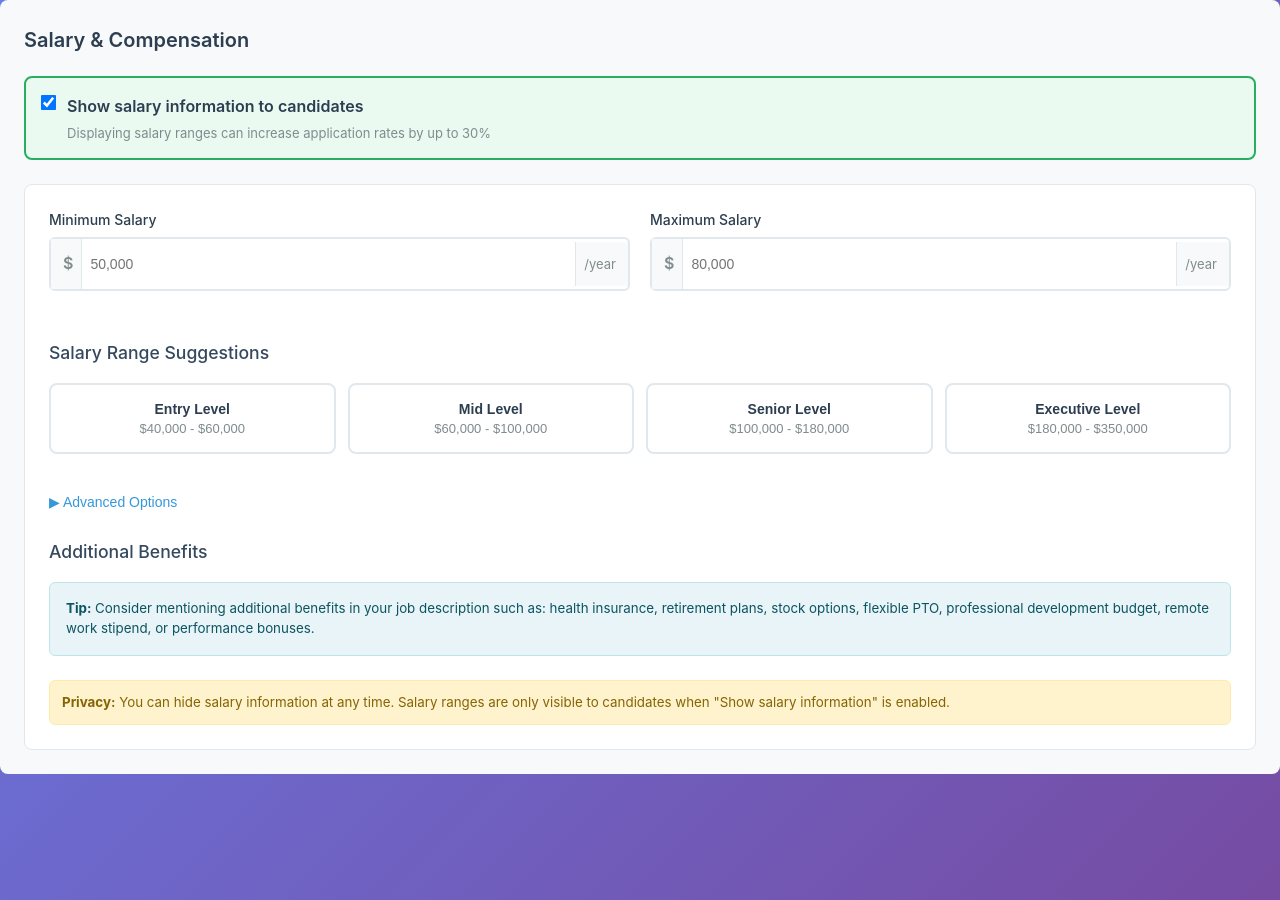
SalaryRangeComponent › shows advanced options when toggled
The width and height of the screenshot is (1280, 900).
Click the button "▶ Advanced Options" at (113, 502), box [49,486,177,518]
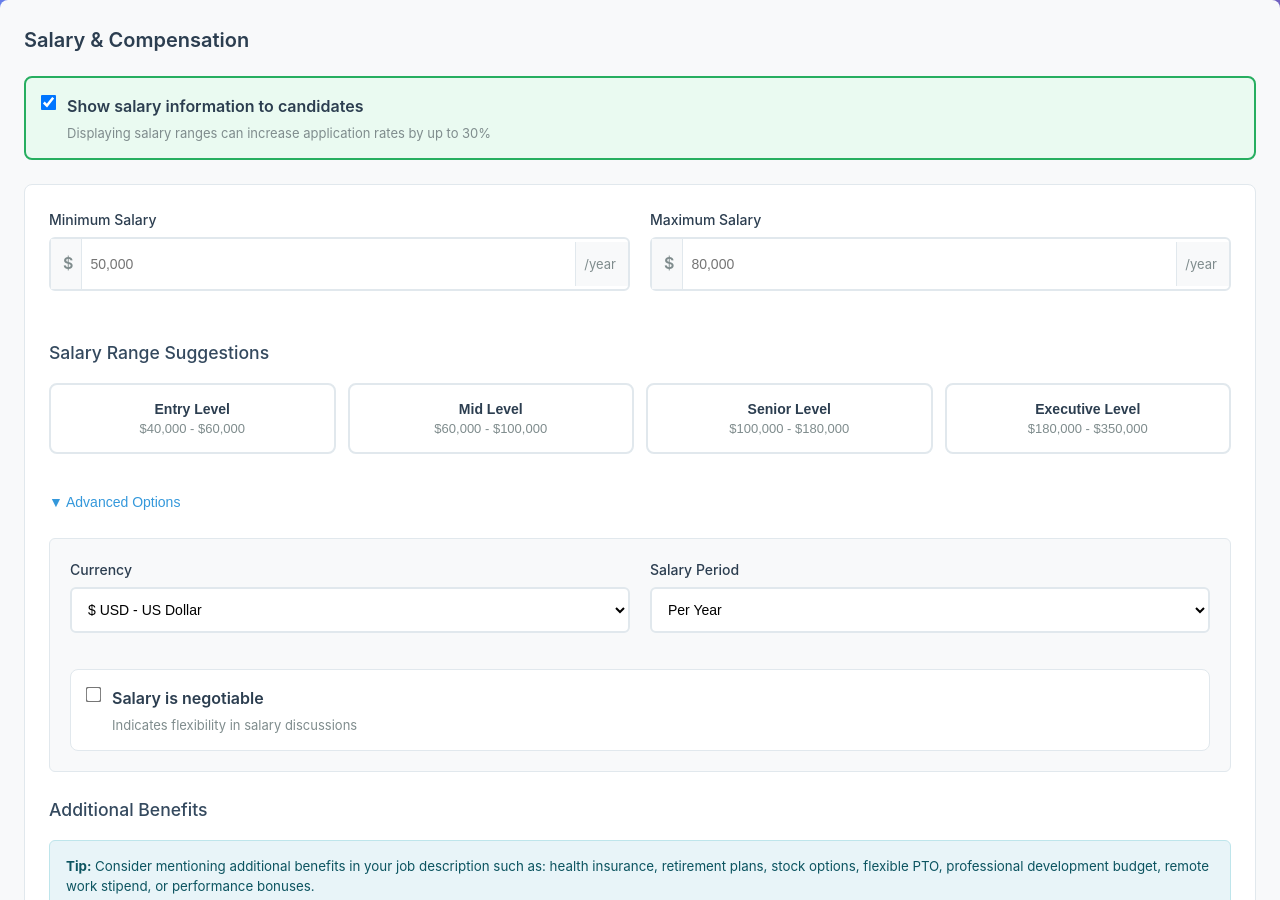
expect the dropdown labelled "Currency" is shown: met, box [70,587,630,633]
expect the dropdown labelled "Salary Period" is shown: met, box [650,587,1210,633]
